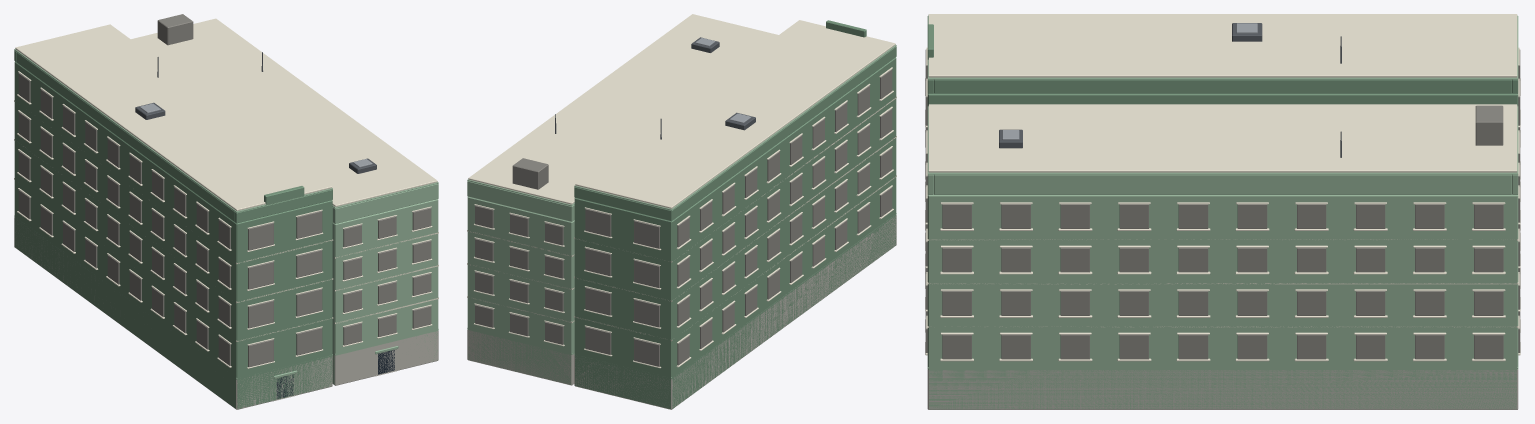
Rendered from VG_Bld_Residential_01.fbx.
3 views of the same model, side by side, from view 1: azimuth 30°, elevation 25°; view 2: azimuth 150°, elevation 25°; view 3: azimuth 270°, elevation 25° (orthographic). The views are drawn at different scales.
Parts seen in each view (by area): view 1: VG_Bld_Residential_01_Body; view 2: VG_Bld_Residential_01_Body; view 3: VG_Bld_Residential_01_Body.
Boxes of the visible parts, x1=… form: VG_Bld_Residential_01_Body: x1=14, y1=14, x2=438, y2=409; VG_Bld_Residential_01_Body: x1=467, y1=14, x2=896, y2=409; VG_Bld_Residential_01_Body: x1=925, y1=14, x2=1520, y2=409.
Size of the model in its own units: 25 by 25.53 by 47.
